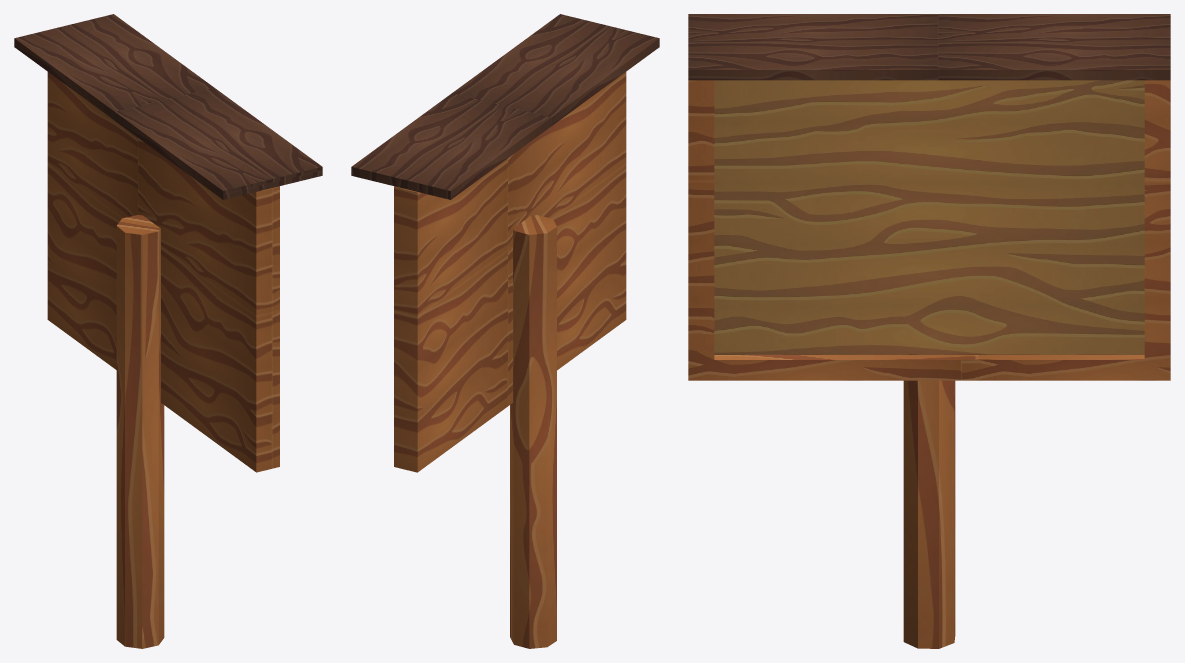
Rendered from letreroBasico.glb.
The picture shows the model from 3 angles, left to right: view 1: azimuth 30°, elevation 25°; view 2: azimuth 150°, elevation 25°; view 3: azimuth 270°, elevation 25°; orthographic projection. The views are drawn at different scales.
Bounding box in the file's own units: 0.7805 × 3.97 × 2.84.
Materials: 3 (3 with a texture image).
